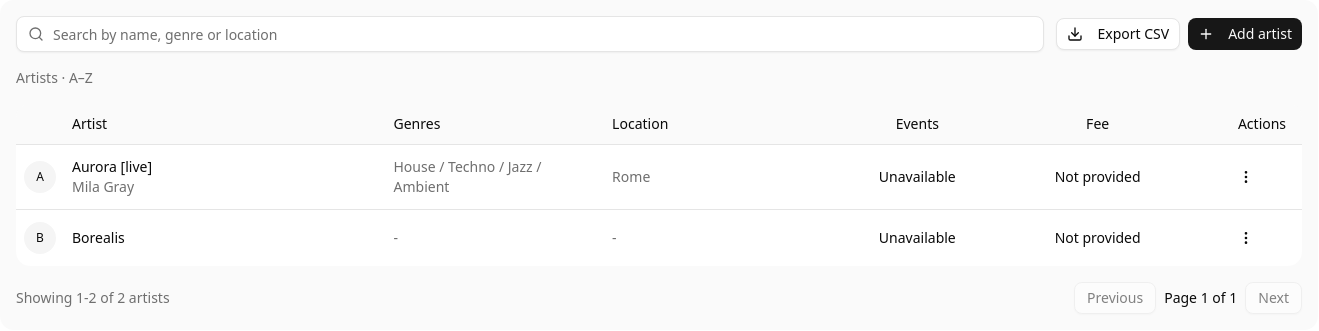
search matches literal trimmed case-insensitive directory field   auROra
Step 1. Type "  auROra  " into the search field with placeholder "Search by name, genre or location" → (530, 34), box x1=16 y1=16 x2=1044 y2=52
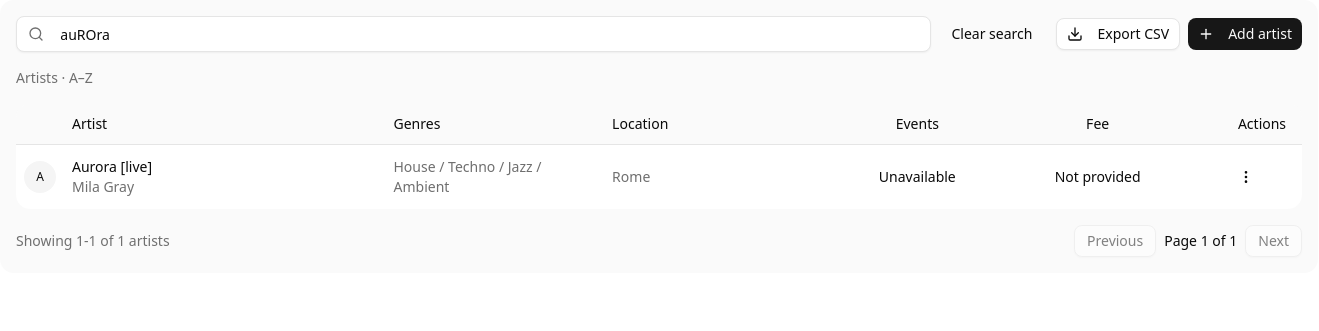
Expected: the text "Aurora [live]" is shown, x1=72 y1=156 x2=152 y2=176
Result: the link "Borealis" is gone
